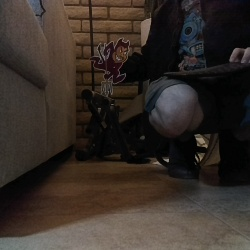sparky: (86, 36, 129, 97)
